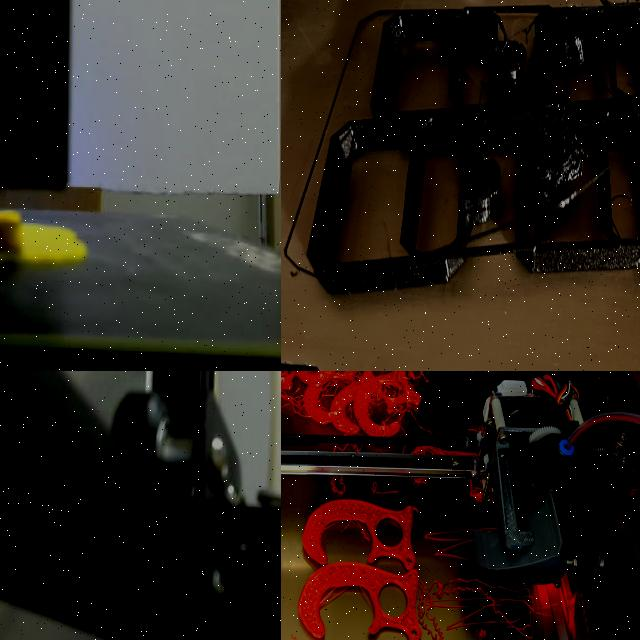spaghetti: (281, 371, 528, 451), (417, 562, 549, 640)
